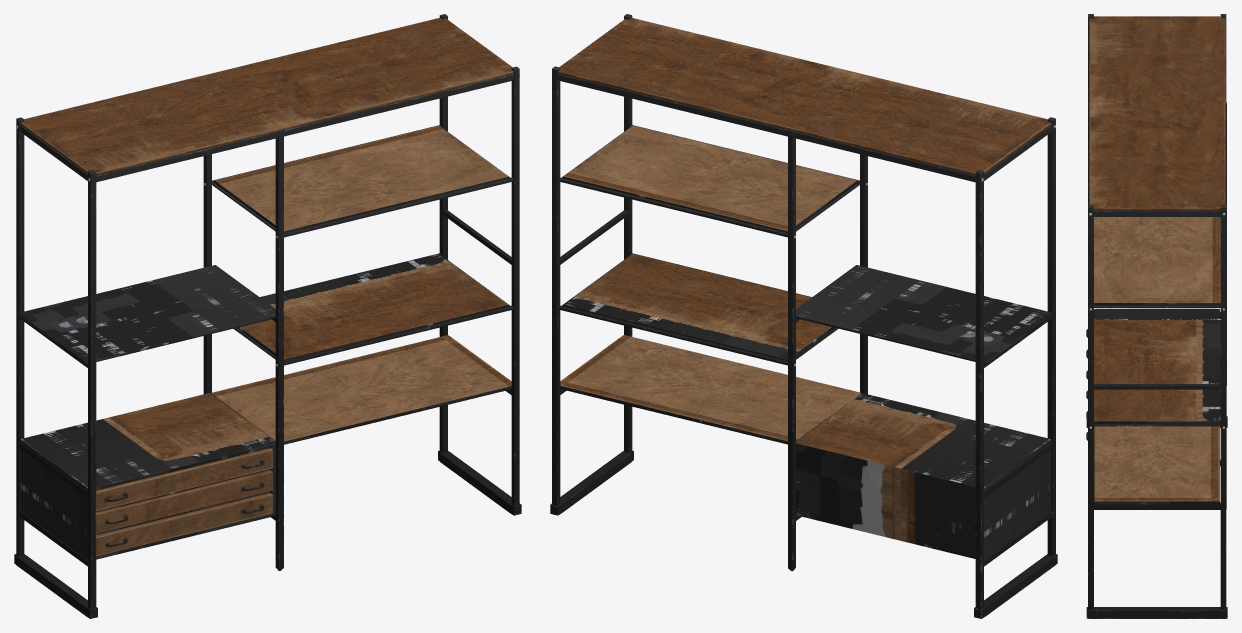
3 renders of one model, left to right at view 1: azimuth 30°, elevation 25°; view 2: azimuth 150°, elevation 25°; view 3: azimuth 270°, elevation 25°, orthographic. The views are drawn at different scales.
Parts seen in each view (by area): view 1: steel_frame_shelves_03, steel_frame_shelves_03_drawer_03, steel_frame_shelves_03_drawer_02, steel_frame_shelves_03_drawer_01; view 2: steel_frame_shelves_03; view 3: steel_frame_shelves_03.
Part boxes in pixels (bbox=[...]): steel_frame_shelves_03: bbox=[14, 14, 521, 618]; steel_frame_shelves_03_drawer_03: bbox=[96, 492, 272, 556]; steel_frame_shelves_03_drawer_02: bbox=[96, 470, 272, 533]; steel_frame_shelves_03_drawer_01: bbox=[96, 448, 272, 511]; steel_frame_shelves_03: bbox=[550, 14, 1057, 618]; steel_frame_shelves_03: bbox=[1086, 14, 1227, 618].
Size of the model in its own units: 235 by 231 by 72.12.
